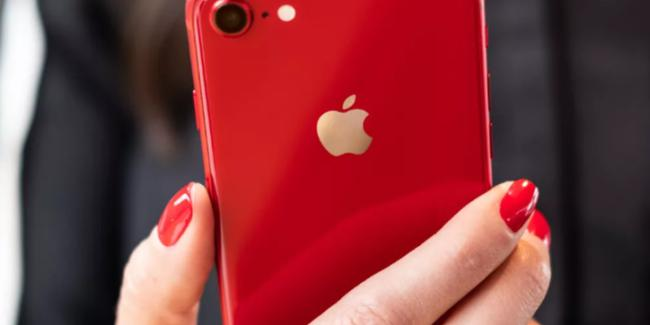apple: (305, 84, 385, 162)
